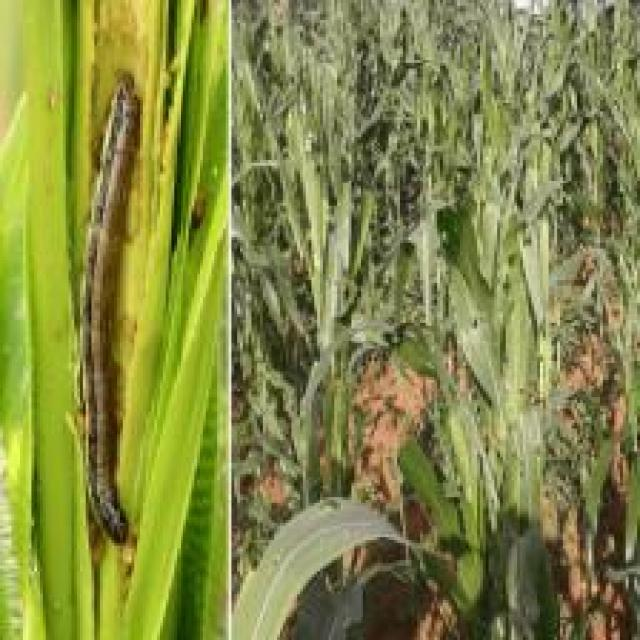Plaga: (78, 45, 144, 574)
